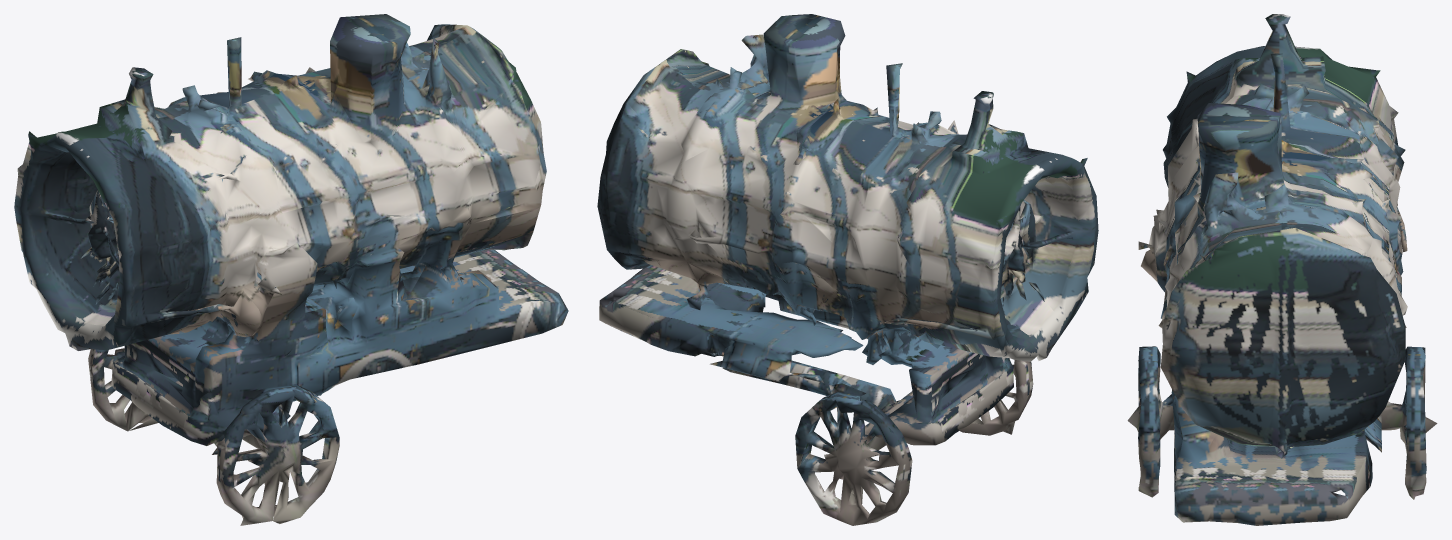
Rendered from crucible_mortar.glb.
3 renders of one model, left to right at view 1: azimuth 30°, elevation 25°; view 2: azimuth 150°, elevation 25°; view 3: azimuth 270°, elevation 25°, orthographic. The views are drawn at different scales.
Parts seen in each view (by area): view 1: LP_baked; view 2: LP_baked; view 3: LP_baked.
Boxes of the visible parts, x1=… form: LP_baked: x1=14, y1=14, x2=568, y2=525; LP_baked: x1=597, y1=14, x2=1098, y2=525; LP_baked: x1=1127, y1=14, x2=1437, y2=525.
Bounding box in the file's own units: 1.9 × 1.73 × 1.1.
Materials: 1 (1 with a texture image).
